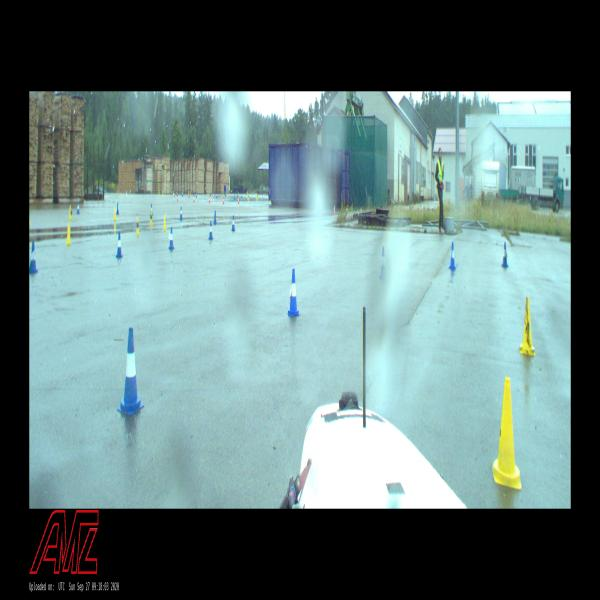blue_cone: (118, 329, 144, 415), (287, 270, 300, 316), (379, 247, 387, 281), (29, 243, 38, 273), (449, 241, 456, 270), (116, 232, 123, 258), (501, 242, 508, 267), (169, 228, 174, 248), (209, 222, 213, 239), (232, 216, 235, 231), (214, 210, 217, 224), (180, 207, 183, 220), (150, 203, 153, 216), (117, 202, 119, 215), (77, 202, 79, 214), (234, 194, 236, 200), (241, 194, 242, 198)
orange_cone: (334, 204, 336, 215), (193, 195, 195, 202), (346, 205, 348, 212), (360, 206, 362, 213), (173, 192, 175, 198), (188, 192, 190, 198), (177, 194, 178, 202), (223, 197, 224, 204), (209, 195, 210, 202), (238, 198, 239, 204)
yellow_cone: (492, 378, 521, 491), (520, 295, 536, 357), (66, 225, 71, 245), (136, 216, 140, 235), (163, 215, 167, 230), (114, 207, 117, 220), (69, 206, 71, 219), (150, 212, 152, 224), (163, 192, 165, 196), (257, 194, 258, 200), (248, 194, 249, 200), (256, 193, 257, 198)
